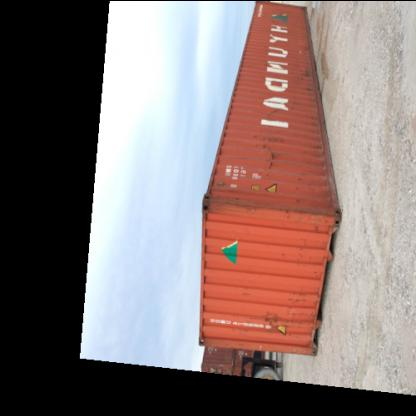Damage: (204, 177, 256, 215), (284, 194, 332, 222), (253, 136, 283, 178), (283, 283, 309, 320), (282, 58, 312, 90), (305, 114, 321, 156), (258, 312, 278, 332), (264, 101, 290, 116), (235, 284, 255, 302), (306, 223, 327, 235)
